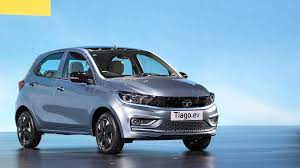Tiago: (11, 44, 221, 157)
